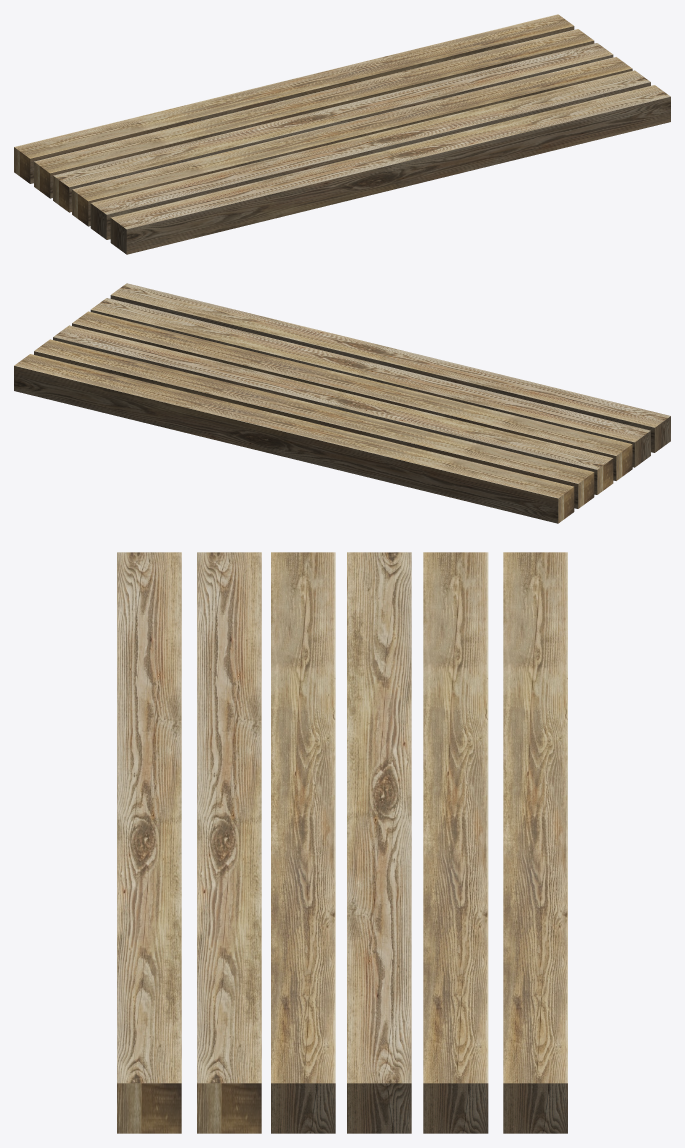
File: woodenBridge.fbx
3 views of the same model, one above another, from view 1: azimuth 30°, elevation 25°; view 2: azimuth 150°, elevation 25°; view 3: azimuth 270°, elevation 25° (orthographic). The views are drawn at different scales.
Parts seen in each view (by area): view 1: polySurface322; view 2: polySurface322; view 3: polySurface322.
Part boxes in pixels (<box>): polySurface322: <box>14,14,670,254</box>; polySurface322: <box>14,283,670,523</box>; polySurface322: <box>117,552,567,1133</box>.
Size of the model in its own units: 12.08 by 0.5349 by 4.34.
Materials: 1 (1 with a texture image).
